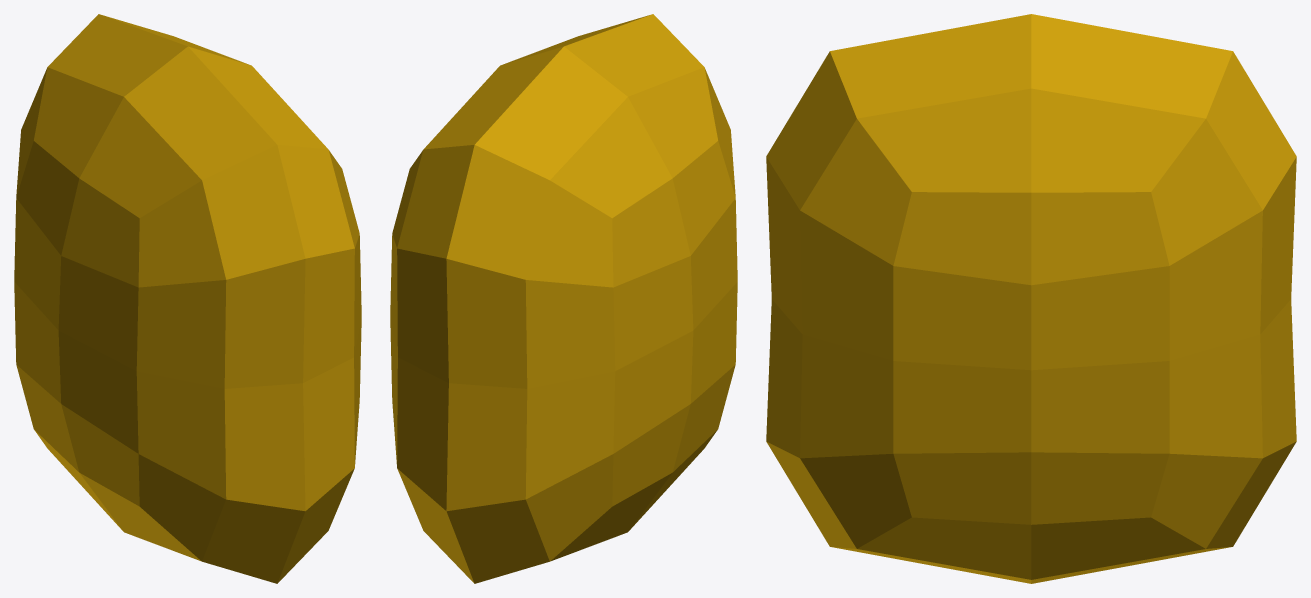
The model's file is item.obj.
3 renders of one model, left to right at view 1: azimuth 30°, elevation 25°; view 2: azimuth 150°, elevation 25°; view 3: azimuth 270°, elevation 25°, orthographic. The views are drawn at different scales.
Visible parts, largest first — view 1: Cube; view 2: Cube; view 3: Cube.
Boxes of the visible parts, x1,y1,x2,y2 form: Cube: (14, 14, 361, 583); Cube: (390, 14, 737, 583); Cube: (766, 14, 1296, 583).
Bounding box in the file's own units: 0.4572 × 0.8527 × 0.7193.
